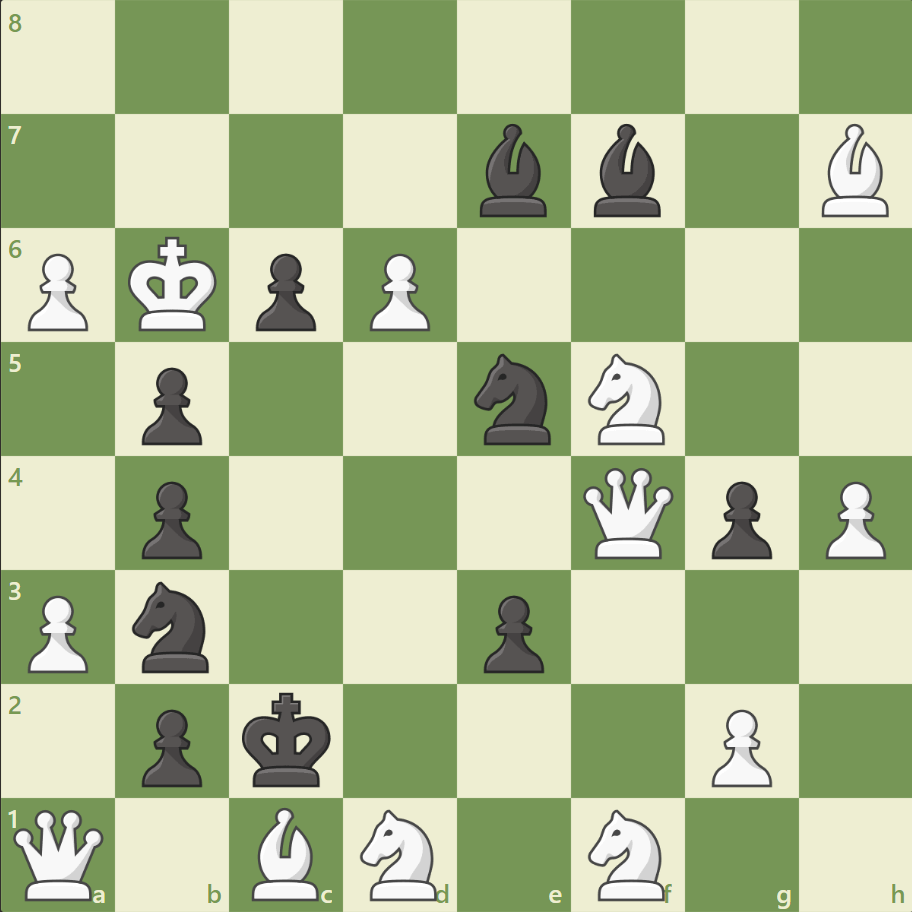B: (244, 801, 328, 904), (812, 120, 896, 222)
K: (124, 231, 224, 339)
N: (351, 802, 449, 904), (579, 348, 676, 450), (579, 802, 676, 904)
P: (20, 246, 95, 337), (20, 586, 95, 677), (701, 700, 776, 791), (361, 246, 435, 337), (815, 473, 889, 564)
Q: (578, 463, 677, 562), (10, 804, 109, 903)
b: (471, 120, 555, 222), (585, 120, 669, 222)
k: (238, 685, 338, 793)
n: (124, 575, 222, 677), (465, 348, 562, 450)
p: (247, 246, 322, 337), (133, 359, 208, 450), (133, 473, 208, 564), (701, 473, 776, 564), (474, 586, 549, 677), (133, 700, 208, 791)
